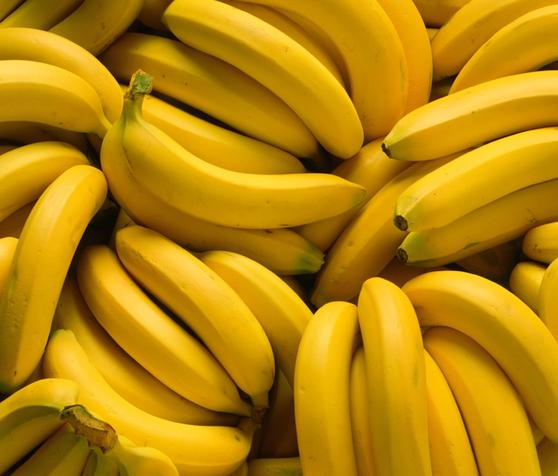banana: (117, 96, 371, 228), (2, 143, 108, 389), (123, 232, 272, 395), (405, 127, 558, 243), (375, 73, 553, 171), (351, 277, 433, 476), (293, 299, 361, 476)
